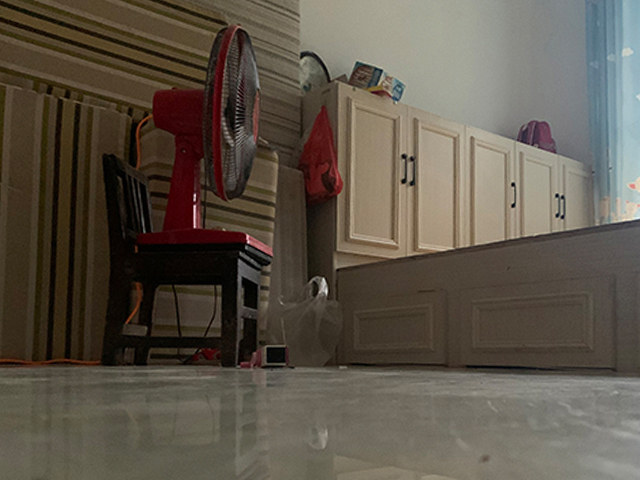bed: (326, 211, 640, 377)
curtain: (580, 3, 638, 223)
stool: (99, 153, 274, 368)
wire: (1, 356, 103, 366)
